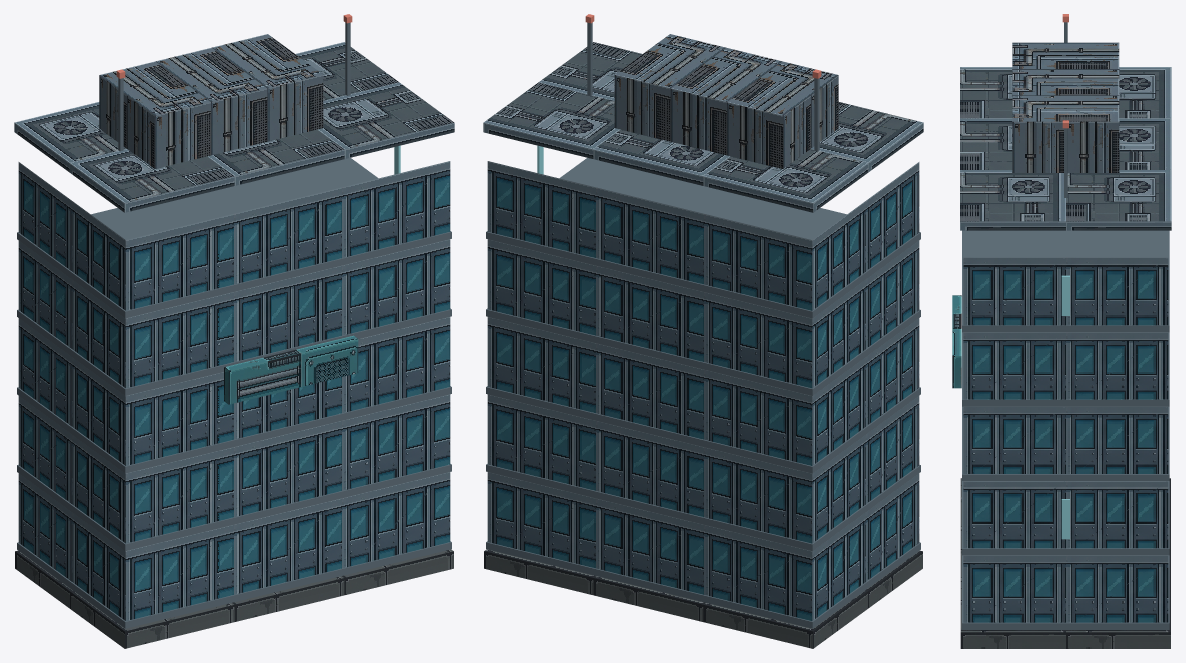
Rendered from tower_glass.glb.
3 renders of one model, left to right at view 1: azimuth 30°, elevation 25°; view 2: azimuth 150°, elevation 25°; view 3: azimuth 270°, elevation 25°, orthographic. The views are drawn at different scales.
Parts seen in each view (by area): view 1: tower_glass; view 2: tower_glass; view 3: tower_glass.
Boxes of the visible parts, x1,y1,x2,y2 form: tower_glass: (14,14,454,648); tower_glass: (483,14,923,648); tower_glass: (952,14,1171,648).
Bounding box in the file's own units: 7.12 × 10.83 × 4.27.
5 materials, 2 textured.
